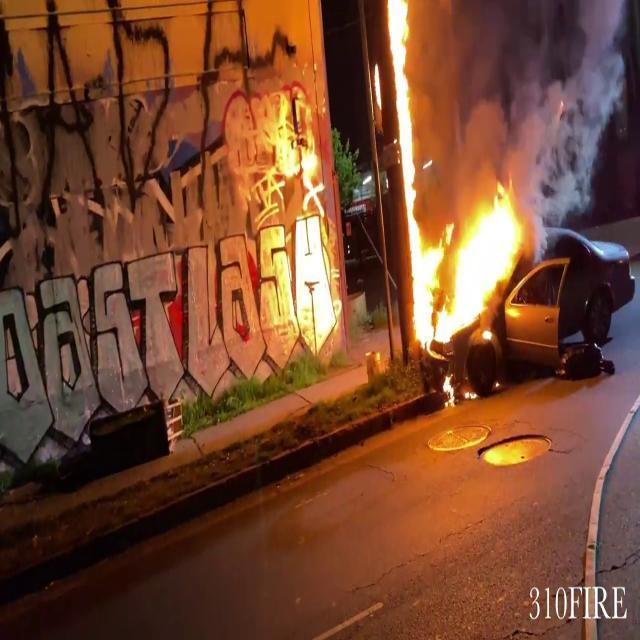Fire: (408, 178, 530, 349), (381, 0, 419, 183)
Smoke: (416, 0, 636, 226)
